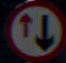Two way: (9, 6, 56, 49)
